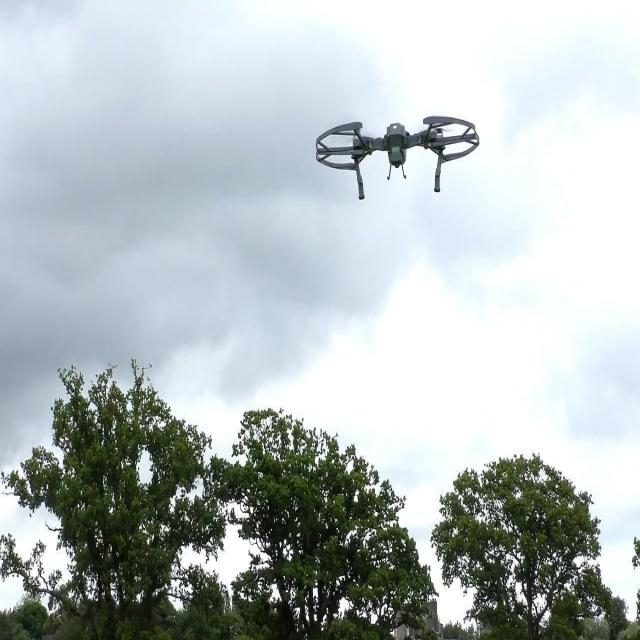UAV: (316, 115, 480, 201)
